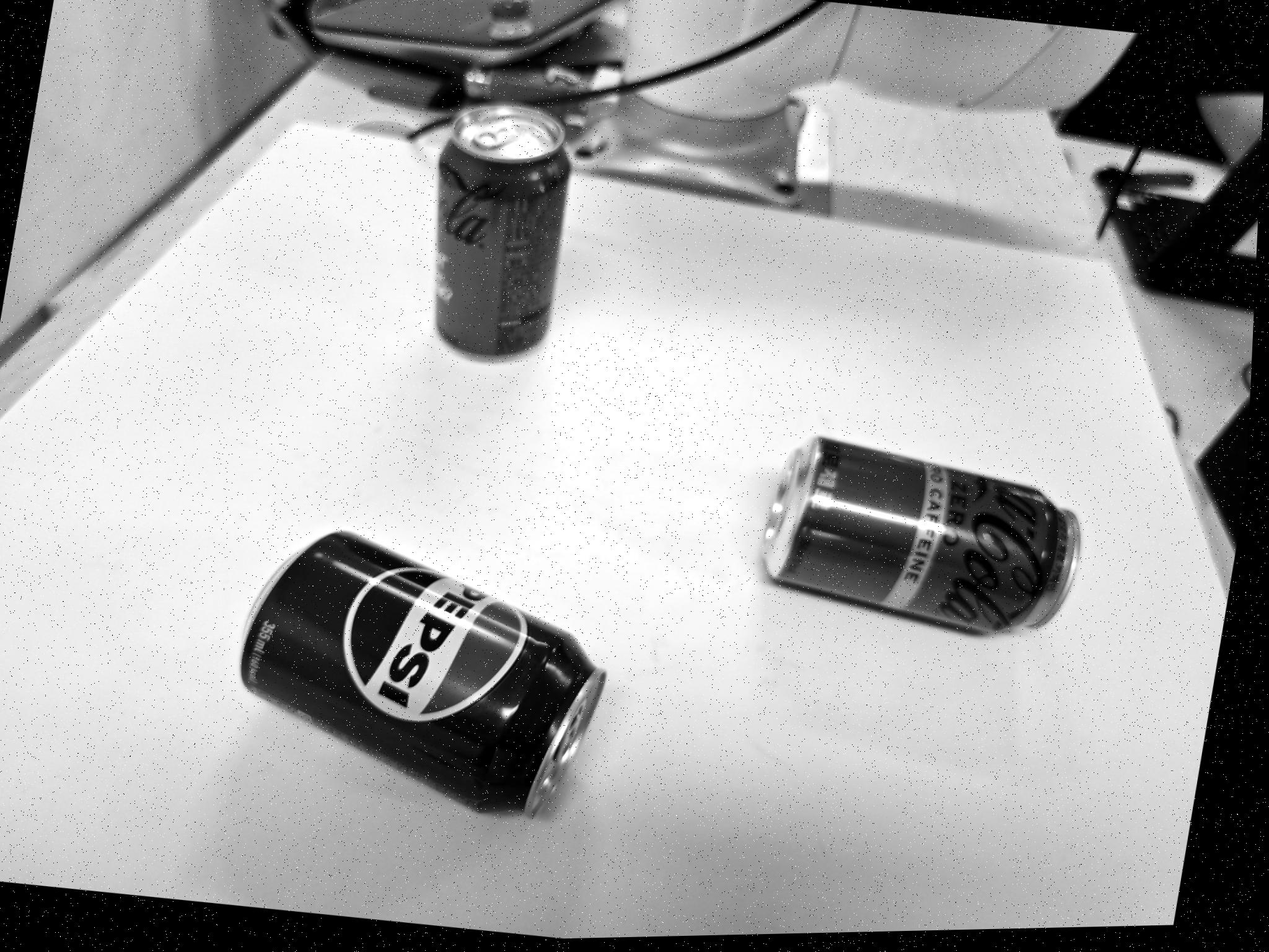can_coke_decaf: (757, 432, 1082, 635)
can_coke_zero: (431, 99, 573, 359)
can_pepsi: (236, 522, 609, 814)
